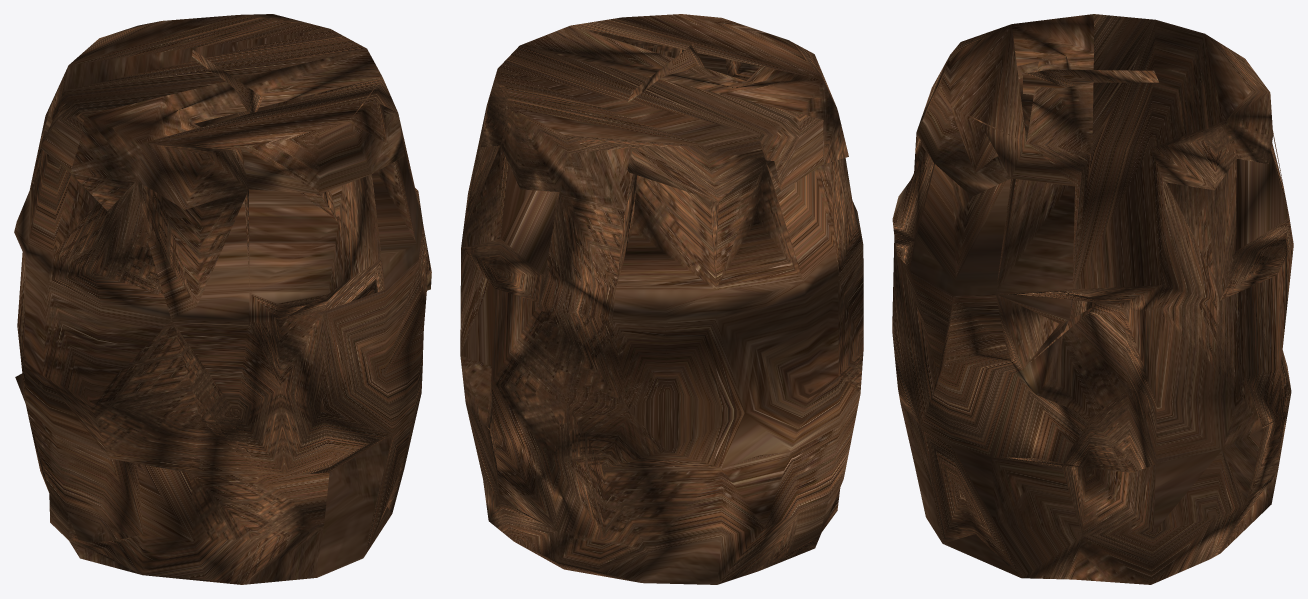
File: wooden_barrels_01_barrel02.glb
3 renders of one model, left to right at view 1: azimuth 30°, elevation 25°; view 2: azimuth 150°, elevation 25°; view 3: azimuth 270°, elevation 25°, orthographic.
Parts seen in each view (by area): view 1: wooden_barrels_01_barrel02; view 2: wooden_barrels_01_barrel02; view 3: wooden_barrels_01_barrel02.
Boxes of the visible parts, bbox=[...] form: wooden_barrels_01_barrel02: bbox=[14, 14, 431, 584]; wooden_barrels_01_barrel02: bbox=[460, 14, 863, 584]; wooden_barrels_01_barrel02: bbox=[892, 14, 1293, 584].
Bounding box in the file's own units: 0.736 × 0.8978 × 0.7233.
1 material, 1 textured.
